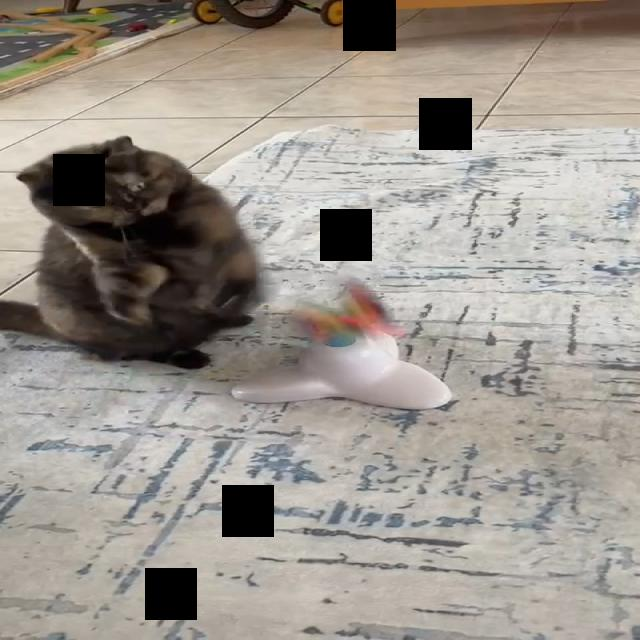authorized: (0, 134, 259, 369)
